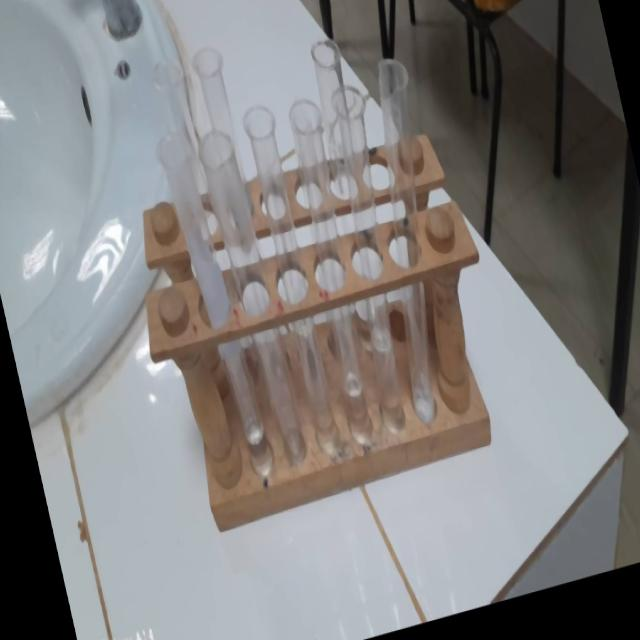Test Tube Racks: (133, 115, 520, 546)
